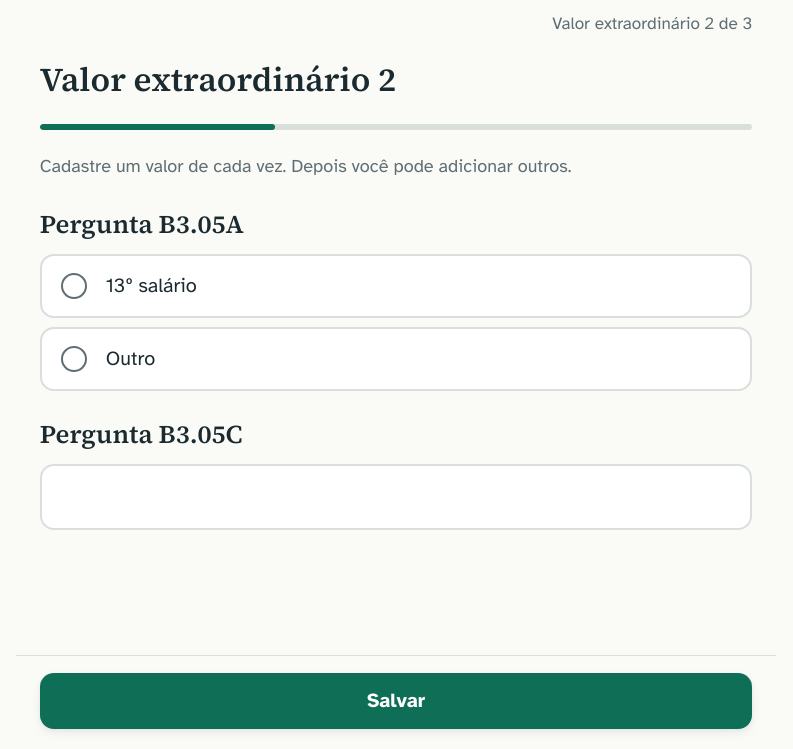
Test: T-314: ficha curta em uma tela › "Outro" mostra a descrição na mesma tela; trocar de opção esconde (T-315)
What coordinates should you click on to do the following:
click the radio button labelled "Outro"
I would click on:
 (130, 358)
Its box is [40,327,752,391].
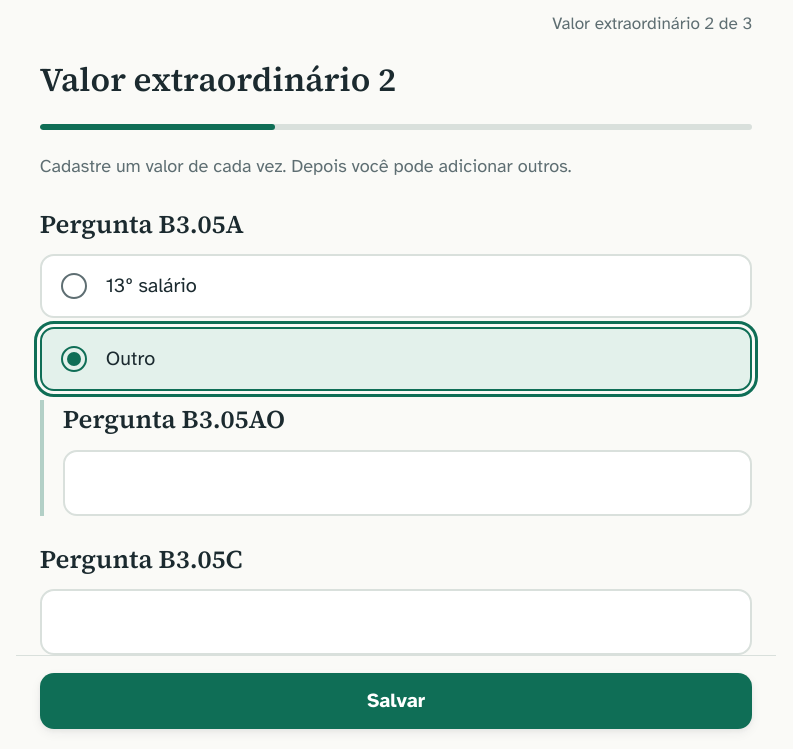
Result: the field labelled "Pergunta B3.05AO" is shown at [63,450,752,516]
What coordinates should you click on to do the following:
click the radio button labelled "13º salário"
I would click on:
 (151, 285)
Its box is [40,254,752,318].
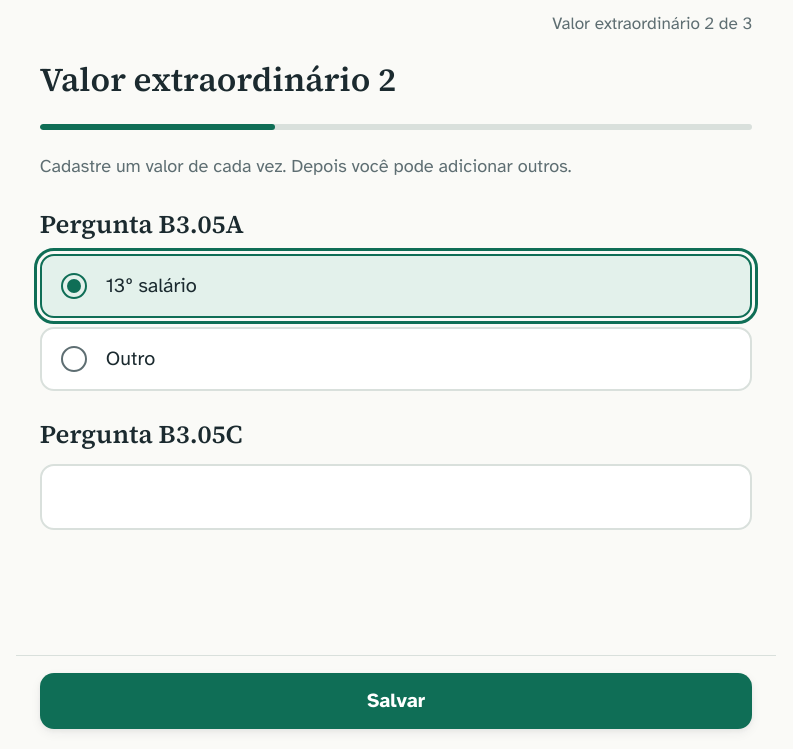
Result: the label labelled "Pergunta B3.05AO" is gone
